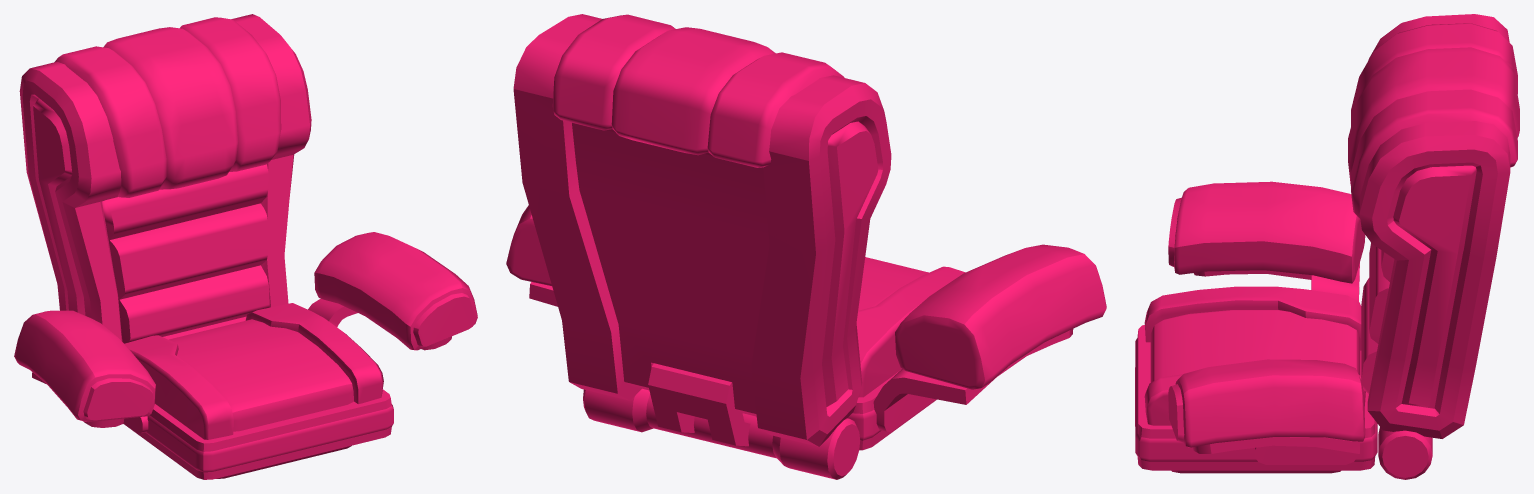
Rendered from obj_topdepartment_chair.fbx.
The picture shows the model from 3 angles, left to right: view 1: azimuth 30°, elevation 25°; view 2: azimuth 150°, elevation 25°; view 3: azimuth 270°, elevation 25°; orthographic projection. The views are drawn at different scales.
Visible parts, largest first — view 1: part2_lp.002; view 2: part2_lp.002; view 3: part2_lp.002.
Boxes of the visible parts, bbox=[...] form: part2_lp.002: bbox=[14, 14, 477, 479]; part2_lp.002: bbox=[506, 14, 1106, 479]; part2_lp.002: bbox=[1135, 14, 1519, 479].
Size of the model in its own units: 6.51 by 5.08 by 4.77.
